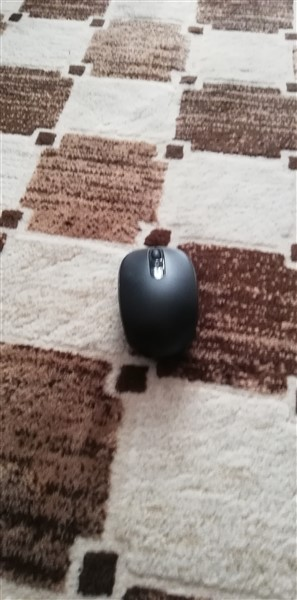mouse: (116, 240, 207, 362)
